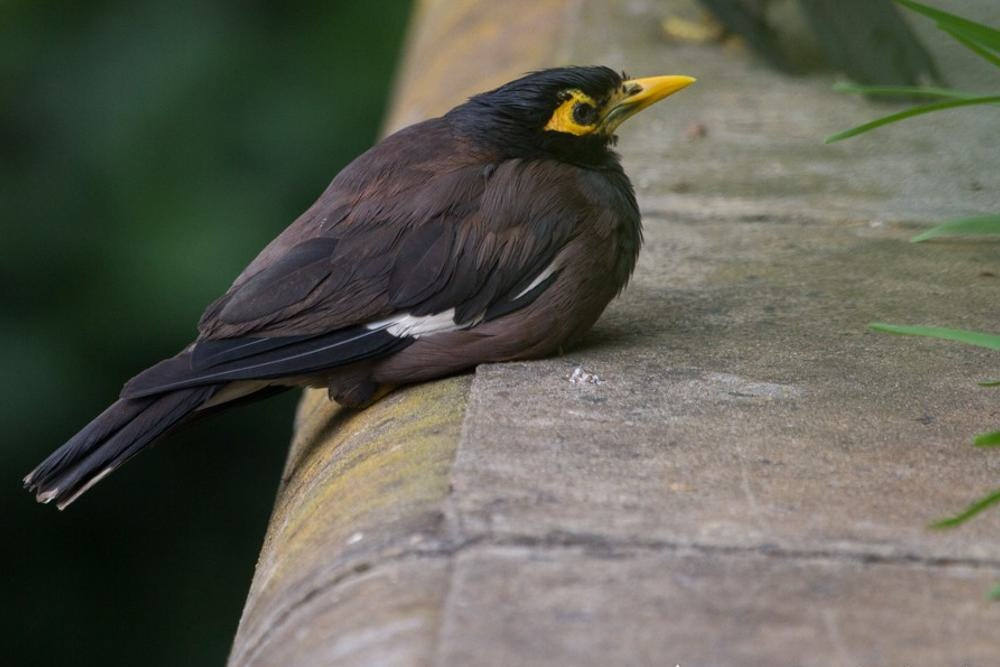myna: (84, 34, 717, 464)
